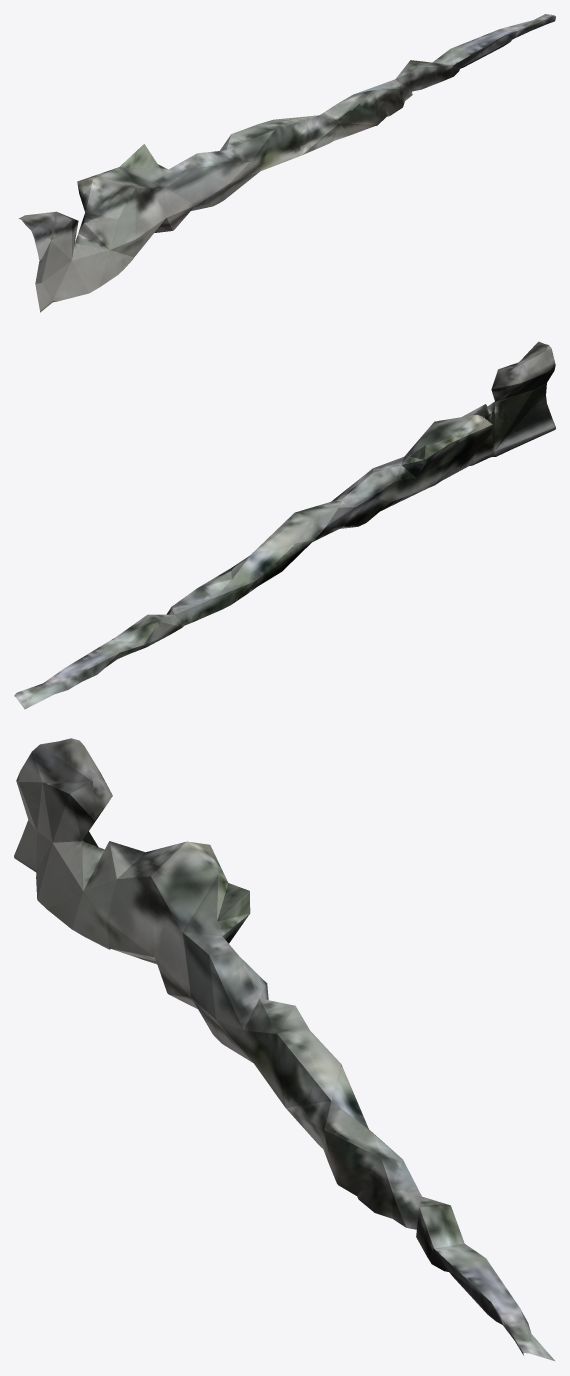
3 renders of one model, top to bottom at view 1: azimuth 30°, elevation 25°; view 2: azimuth 210°, elevation 25°; view 3: azimuth 270°, elevation 25°, orthographic. The views are drawn at different scales.
Size of the model in its own units: 1.67 by 0.186 by 0.7618.
Materials: 1 (1 with a texture image).
